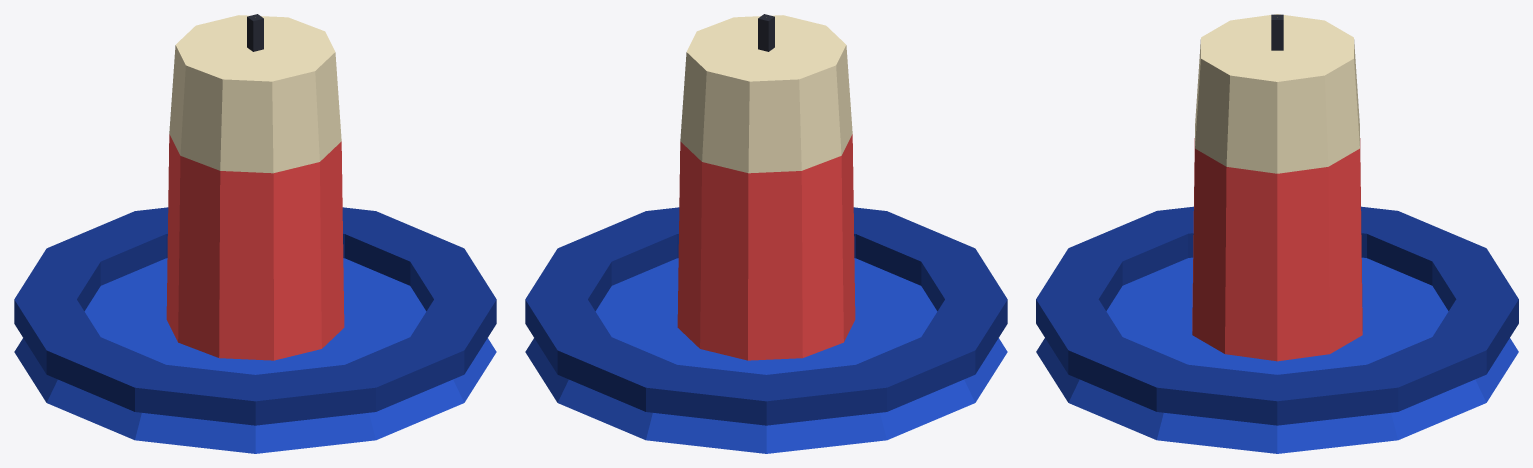
Rendered from candle.glb.
The picture shows the model from 3 angles, left to right: view 1: azimuth 30°, elevation 25°; view 2: azimuth 150°, elevation 25°; view 3: azimuth 270°, elevation 25°; orthographic projection.
Parts seen in each view (by area): view 1: CandleBody; view 2: CandleBody; view 3: CandleBody.
Boxes of the visible parts, box(x1,y1,x2,y2) form: CandleBody: box(14, 14, 496, 453); CandleBody: box(525, 14, 1007, 453); CandleBody: box(1036, 14, 1518, 453).
Bounding box in the file's own units: 0.54 × 0.4132 × 0.54.
1 material, 1 textured.
